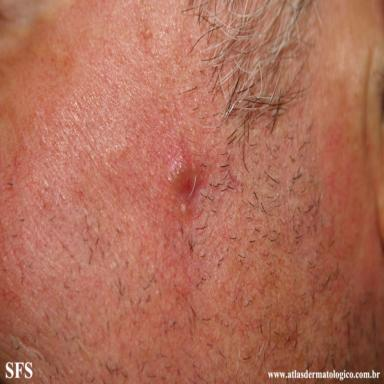basal-cell-carcinoma: (169, 153, 203, 215)
